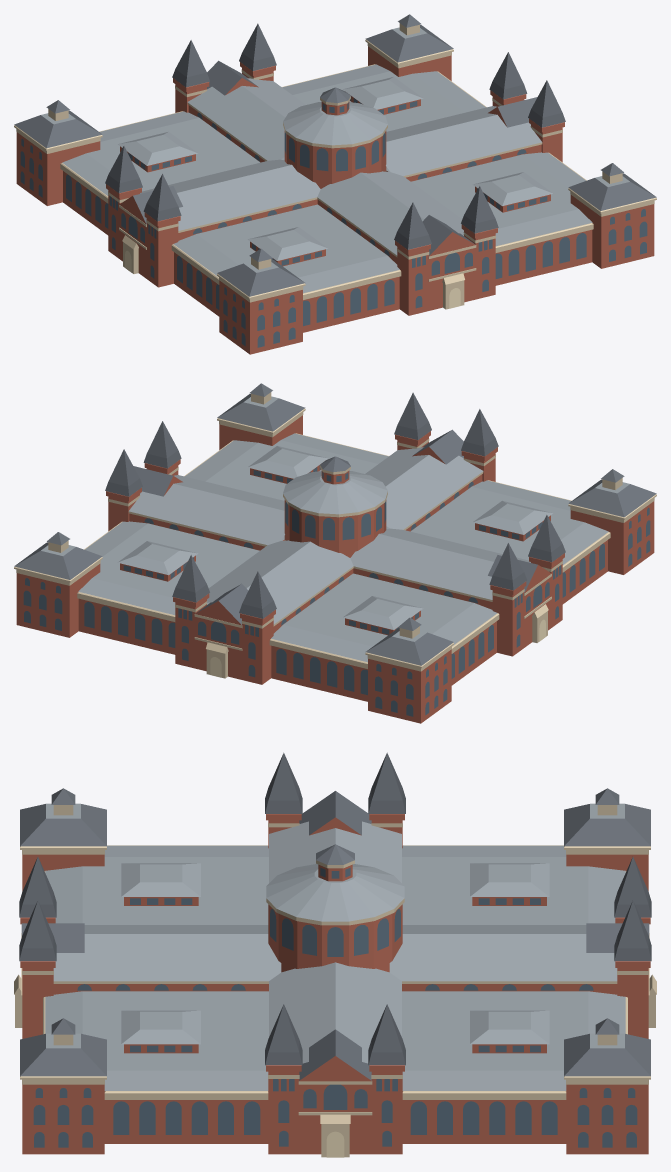
Rendered from dc-arts-and-industries.glb.
The picture shows the model from 3 angles, top to bottom: view 1: azimuth 30°, elevation 25°; view 2: azimuth 150°, elevation 25°; view 3: azimuth 270°, elevation 25°; orthographic projection. The views are drawn at different scales.
Visible parts, largest first — view 1: Arts and Industries Building; view 2: Arts and Industries Building; view 3: Arts and Industries Building.
Part boxes in pixels (x1,y1,x2,y2): Arts and Industries Building: [14, 14, 656, 354]; Arts and Industries Building: [14, 383, 656, 723]; Arts and Industries Building: [14, 752, 656, 1157].
Size of the model in its own units: 103 by 31.5 by 103.
